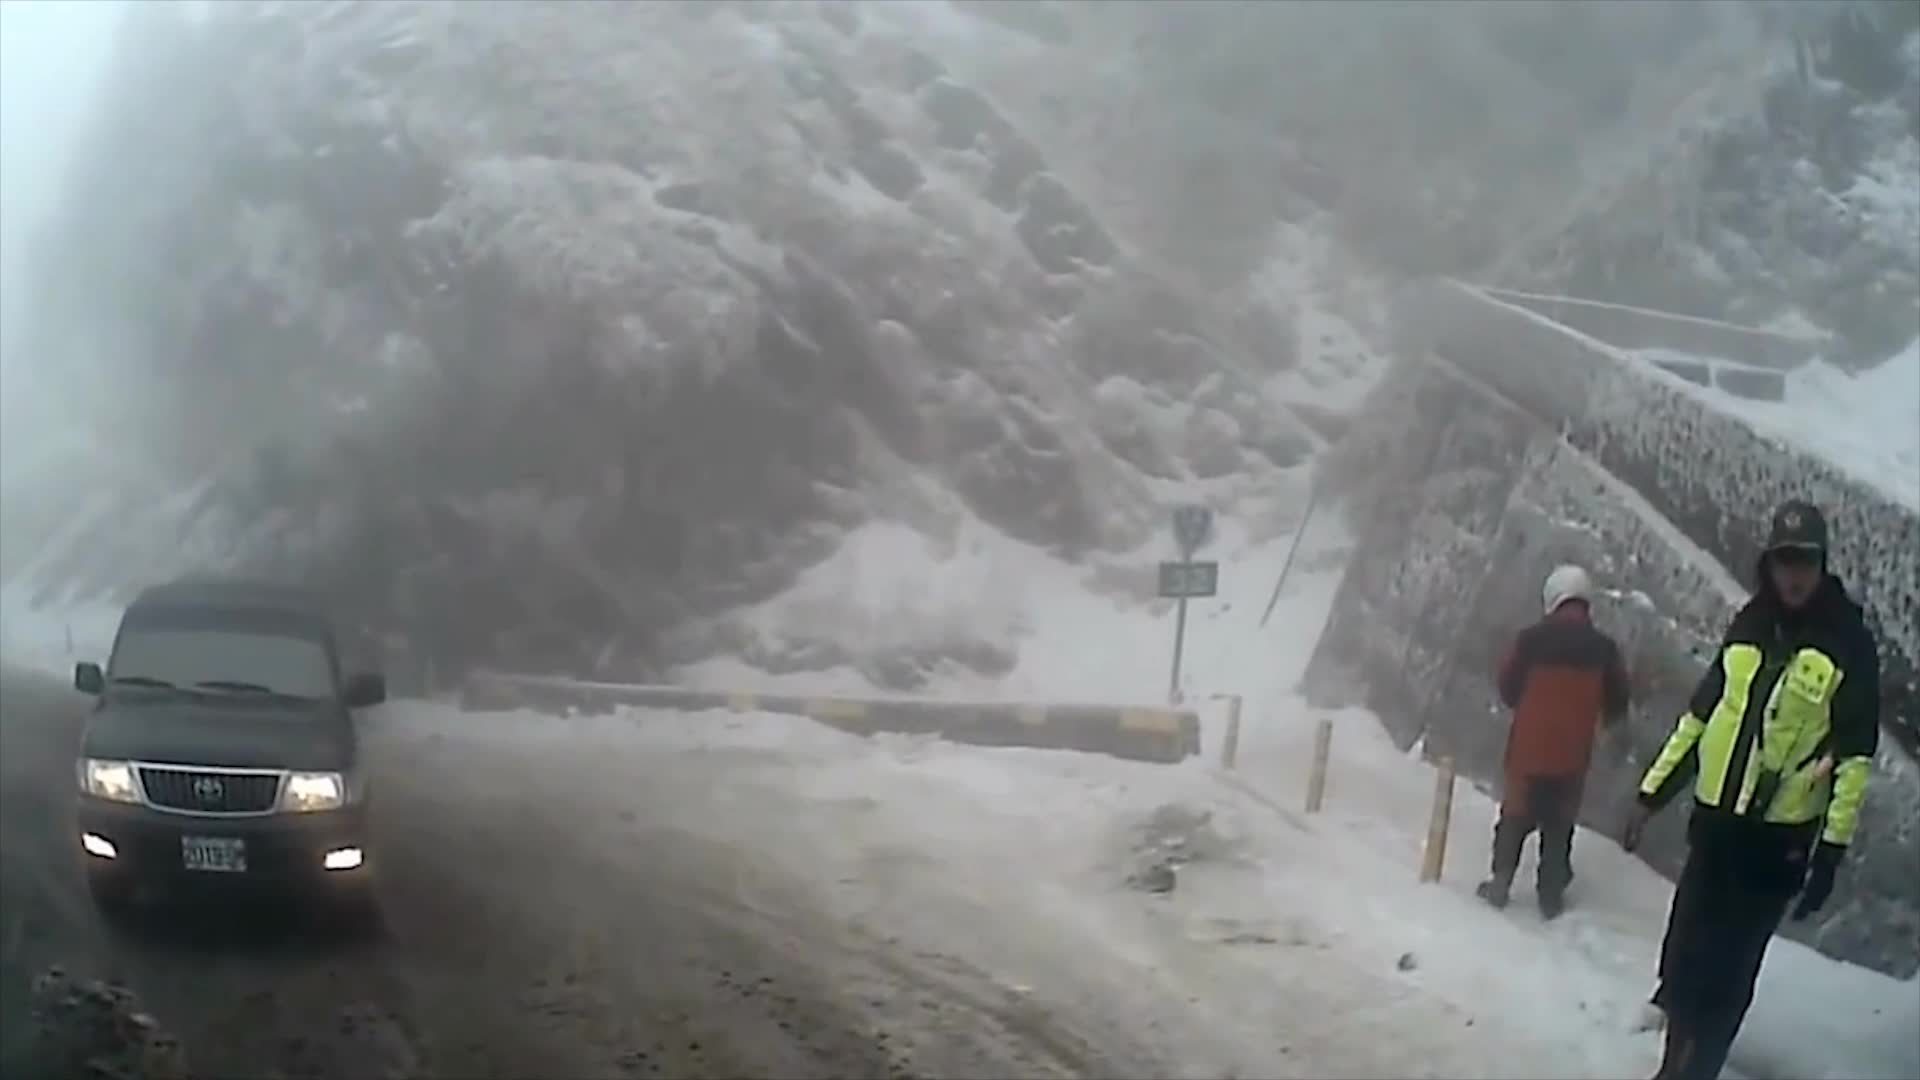pedestrian: (1611, 502, 1880, 1080), (1474, 559, 1633, 918)
vehicle: (71, 579, 386, 938)
